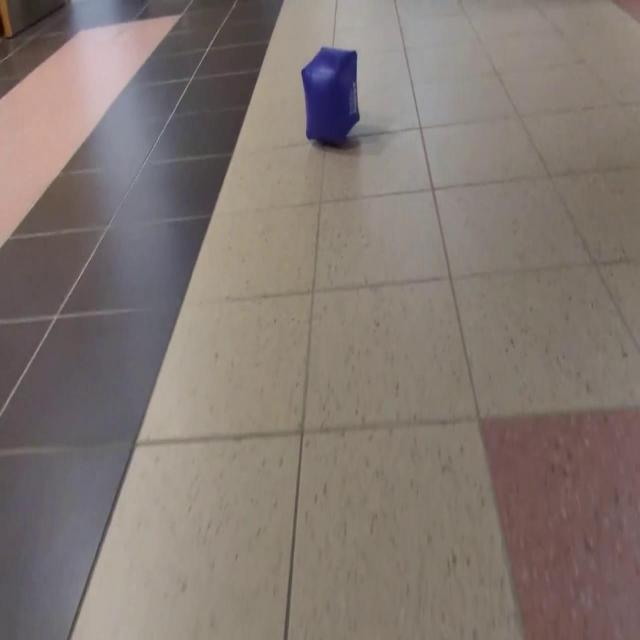frc_cube: (299, 46, 362, 147)
